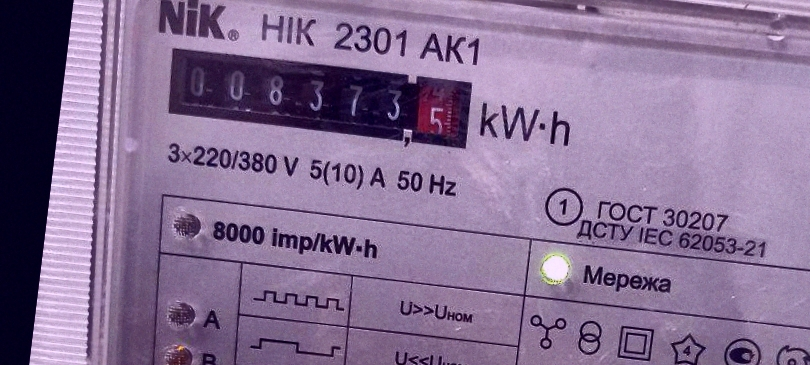0: (185, 61, 209, 99), (225, 65, 248, 103)
3: (380, 84, 407, 123), (303, 75, 328, 114)
4: (428, 82, 448, 104)
5: (425, 103, 448, 135)
7: (343, 78, 365, 119)
8: (263, 70, 289, 108)
screen: (157, 37, 483, 162)
